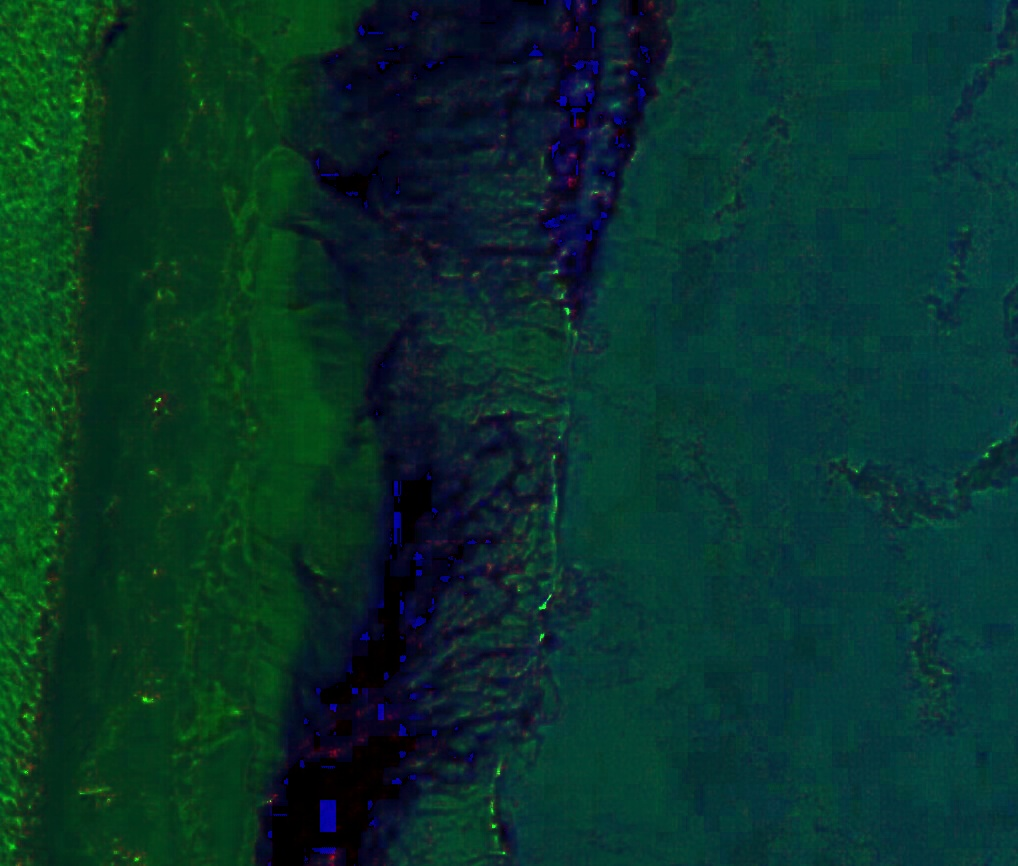rip_current: (402, 273, 636, 478)
